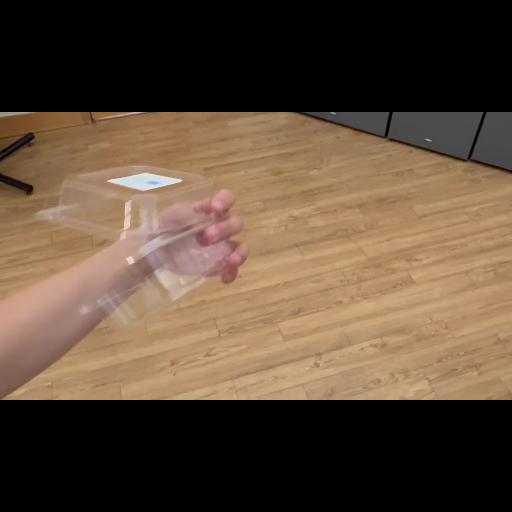small_plastic_container: (35, 166, 231, 326)
